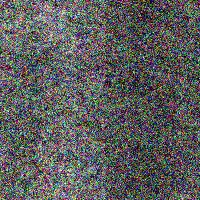crazing: (6, 50, 180, 102), (5, 109, 94, 188)
